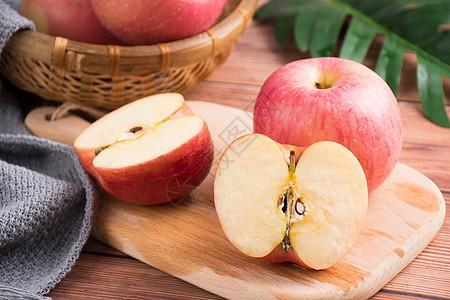apple: (251, 56, 403, 187)
